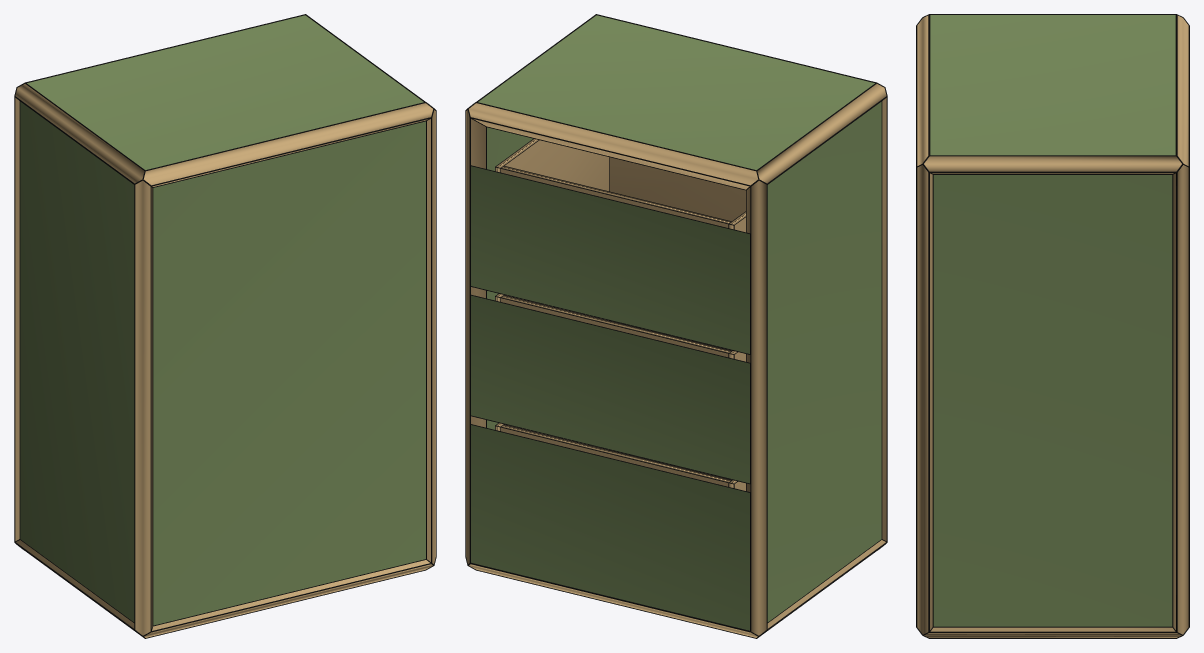
File: 031-meuble-bas.glb
3 views of the same model, side by side, from view 1: azimuth 30°, elevation 25°; view 2: azimuth 150°, elevation 25°; view 3: azimuth 270°, elevation 25° (orthographic). The views are drawn at different scales.
Parts seen in each view (by area): view 1: panneau-fond, panneau-joue1, panneau-dessus_exterieur, arete-Z0, arete-X2, arete-Z1, arete-X0, arete-Y2, arete-Z2, panneau-wire-fond, arete-wire-Z0, arete-wire-Z1 (+6 smaller); view 2: panneau-joue1, drawer-box-facade-mod-0, drawer-box-facade-mod-1, drawer-box-facade-mod-2, panneau-dessus_exterieur, arete-Z2, arete-X3, drawer-box-avant-mod-2, drawer-box-joue_d-mod-2, arete-Z3, arete-Y2, arete-Z0 (+19 smaller); view 3: panneau-joue2, panneau-dessus_exterieur, arete-Z1, arete-Z3, arete-Y3, panneau-wire-joue2, arete-Y1, arete-wire-Z1, arete-wire-Z3, arete-X2, arete-X3, arete-wire-Y3 (+4 smaller).
Boxes of the visible parts, x1,y1,x2,y2 form: panneau-fond: [153, 121, 425, 625]; panneau-joue1: [20, 102, 134, 621]; panneau-dessus_exterieur: [27, 15, 423, 169]; arete-Z0: [135, 180, 152, 635]; arete-X2: [143, 103, 432, 186]; arete-Z1: [427, 110, 435, 563]; arete-X0: [144, 560, 432, 637]; arete-Y2: [15, 84, 144, 183]; arete-Z2: [15, 98, 19, 540]; panneau-wire-fond: [152, 120, 426, 626]; arete-wire-Z0: [134, 179, 152, 631]; arete-wire-Z1: [431, 108, 436, 563]; panneau-joue1: [767, 102, 881, 621]; drawer-box-facade-mod-0: [471, 425, 749, 630]; drawer-box-facade-mod-1: [471, 295, 749, 483]; drawer-box-facade-mod-2: [471, 166, 749, 353]; panneau-dessus_exterieur: [478, 15, 874, 169]; arete-Z2: [746, 180, 766, 635]; arete-X3: [469, 103, 758, 189]; drawer-box-avant-mod-2: [610, 157, 745, 221]; drawer-box-joue_d-mod-2: [495, 139, 609, 191]; arete-Z3: [466, 110, 485, 563]; arete-Y2: [757, 84, 886, 183]; arete-Z0: [882, 98, 886, 540]; panneau-joue2: [933, 175, 1172, 626]; panneau-dessus_exterieur: [930, 15, 1175, 155]; arete-Z1: [917, 165, 932, 634]; arete-Z3: [1173, 165, 1188, 634]; arete-Y3: [924, 156, 1181, 173]; panneau-wire-joue2: [932, 174, 1173, 627]; arete-Y1: [924, 627, 1181, 637]; arete-wire-Z1: [916, 164, 933, 632]; arete-wire-Z3: [1176, 167, 1189, 632]; arete-X2: [917, 15, 928, 165]; arete-X3: [1177, 15, 1188, 165]; arete-wire-Y3: [929, 155, 1183, 174].
Bounding box in the file's own units: 0.6238 × 0.9238 × 0.4738.
